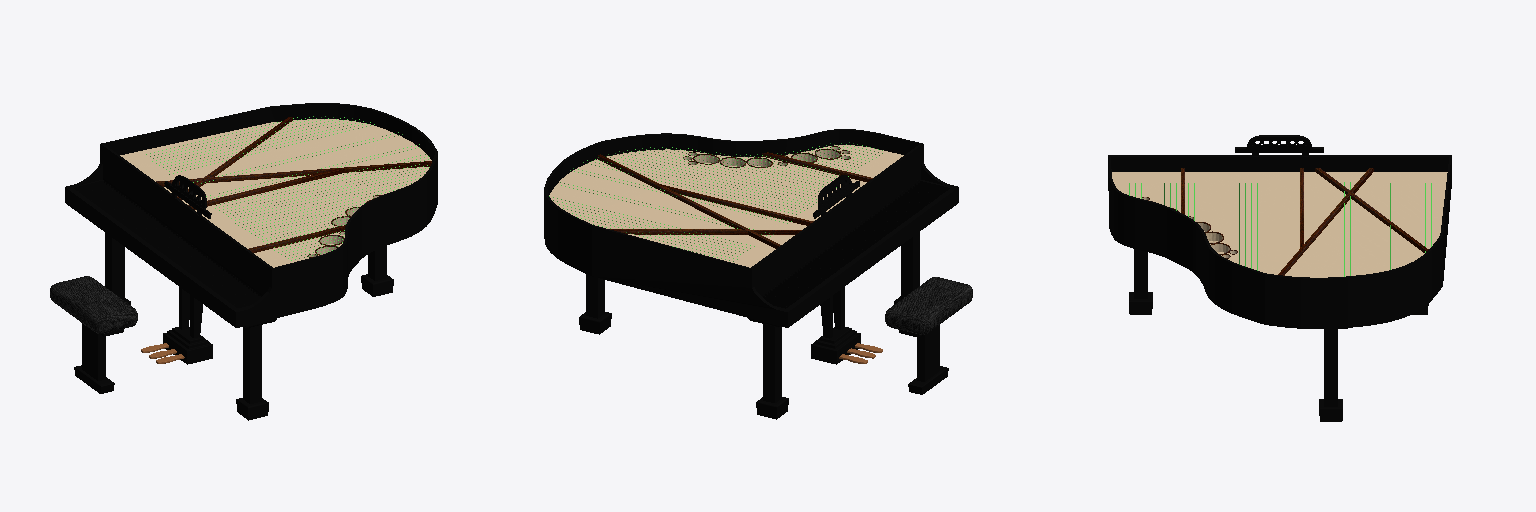
3 renders of one model, left to right at view 1: azimuth 30°, elevation 25°; view 2: azimuth 150°, elevation 25°; view 3: azimuth 270°, elevation 25°, orthographic.
Parts seen in each view (by area): view 1: BabyGrandPiano1.002_BabyGrandPiano1.188, BabyGrandPiano1.005_BabyGrandPiano1.191, BabyGrandPiano1.004_BabyGrandPiano1.190, BabyGrandPiano1.187, BabyGrandPiano1.007_BabyGrandPiano1.193; view 2: BabyGrandPiano1.002_BabyGrandPiano1.188, BabyGrandPiano1.005_BabyGrandPiano1.191, BabyGrandPiano1.004_BabyGrandPiano1.190, BabyGrandPiano1.187, BabyGrandPiano1.007_BabyGrandPiano1.193; view 3: BabyGrandPiano1.002_BabyGrandPiano1.188, BabyGrandPiano1.005_BabyGrandPiano1.191, BabyGrandPiano1.004_BabyGrandPiano1.190, BabyGrandPiano1.007_BabyGrandPiano1.193.
Part boxes in pixels (x1,y1,x2,y2): BabyGrandPiano1.002_BabyGrandPiano1.188: (65, 103, 437, 420); BabyGrandPiano1.005_BabyGrandPiano1.191: (120, 119, 431, 267); BabyGrandPiano1.004_BabyGrandPiano1.190: (156, 117, 431, 252); BabyGrandPiano1.187: (50, 276, 137, 333); BabyGrandPiano1.007_BabyGrandPiano1.193: (146, 116, 429, 260); BabyGrandPiano1.002_BabyGrandPiano1.188: (544, 129, 958, 419); BabyGrandPiano1.005_BabyGrandPiano1.191: (549, 145, 903, 267); BabyGrandPiano1.004_BabyGrandPiano1.190: (597, 152, 872, 248); BabyGrandPiano1.187: (885, 277, 972, 334); BabyGrandPiano1.007_BabyGrandPiano1.193: (549, 142, 882, 261); BabyGrandPiano1.002_BabyGrandPiano1.188: (1108, 135, 1451, 421); BabyGrandPiano1.005_BabyGrandPiano1.191: (1112, 172, 1447, 277); BabyGrandPiano1.004_BabyGrandPiano1.190: (1181, 168, 1428, 275); BabyGrandPiano1.007_BabyGrandPiano1.193: (1129, 182, 1431, 276).
Bounding box in the file's own units: 71.73 × 33.39 × 58.1.
Materials: 10 (5 with a texture image).